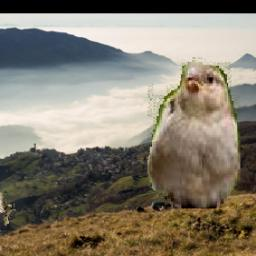Sparrow: (146, 58, 239, 223), (0, 191, 17, 226)
